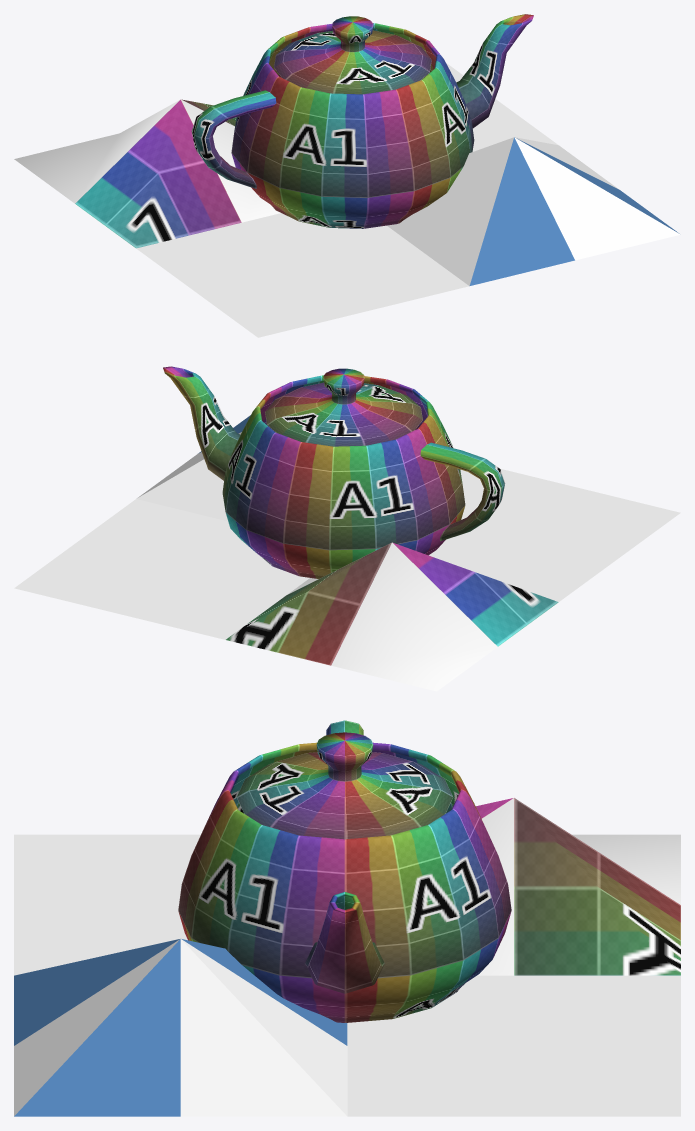
Rendered from fbxFrom3ds.FBX.
3 views of the same model, one above another, from view 1: azimuth 30°, elevation 25°; view 2: azimuth 150°, elevation 25°; view 3: azimuth 270°, elevation 25° (orthographic). The views are drawn at different scales.
Parts seen in each view (by area): view 1: greatPlane, Teapot001; view 2: greatPlane, Teapot001; view 3: greatPlane, Teapot001.
Part boxes in pixels (x1,y1,x2,y2): greatPlane: (14,63,680,337); Teapot001: (191,14,533,228); greatPlane: (14,415,680,691); Teapot001: (163,366,505,578); greatPlane: (14,798,680,1116); Teapot001: (178,720,511,1022).
Bounding box in the file's own units: 2 × 2 × 0.7875.
Materials: 4 (2 with a texture image).
